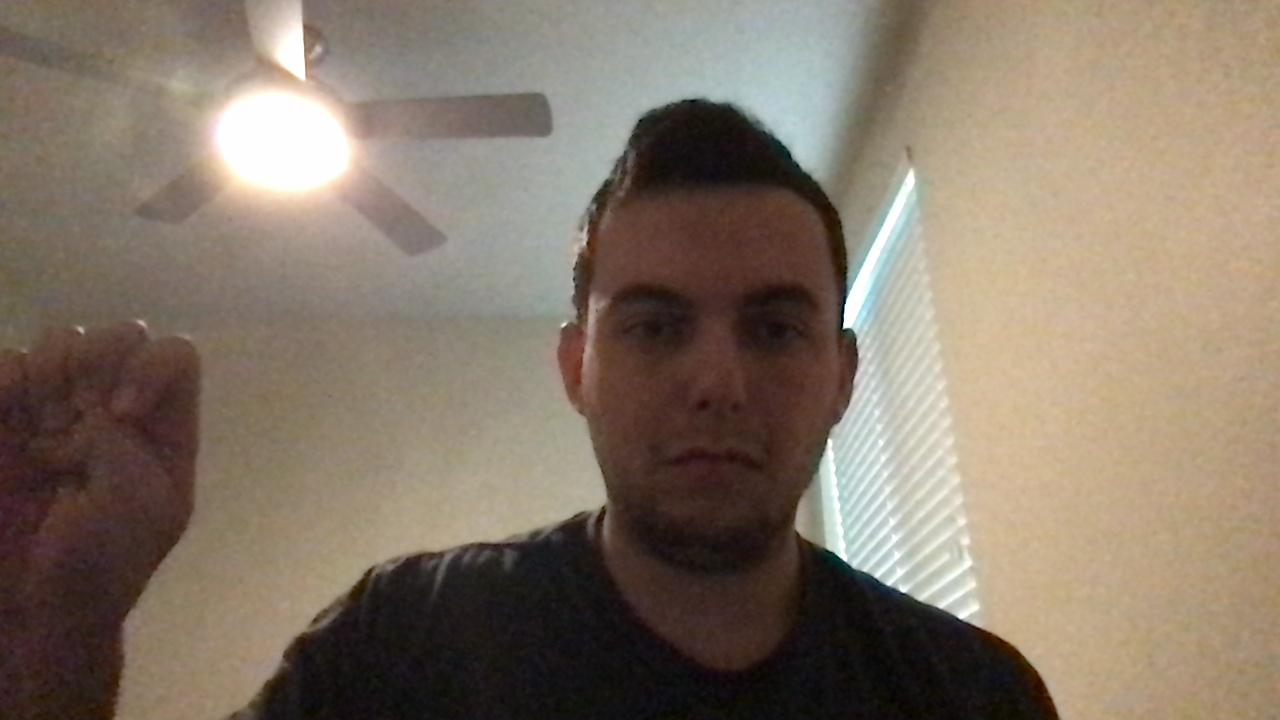e: (1, 314, 230, 644)
